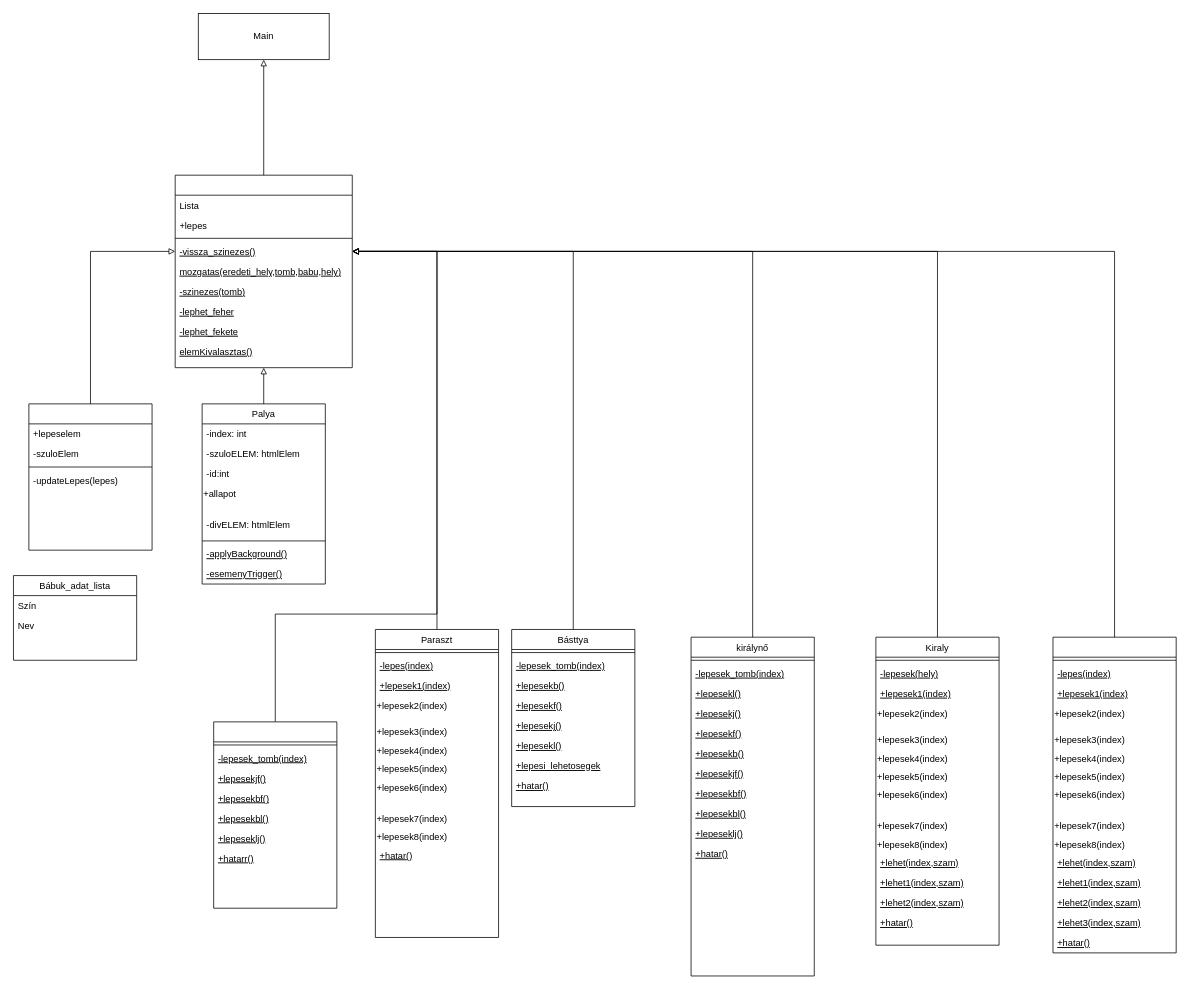
This 1190x989 diagram has some shape labels left out. Each missing label, with the box of its shape:
Futo: (213, 721, 337, 908)
InfoPanel: (28, 403, 152, 550)
Jatekter: (174, 174, 352, 368)
Lo: (1052, 636, 1176, 953)
